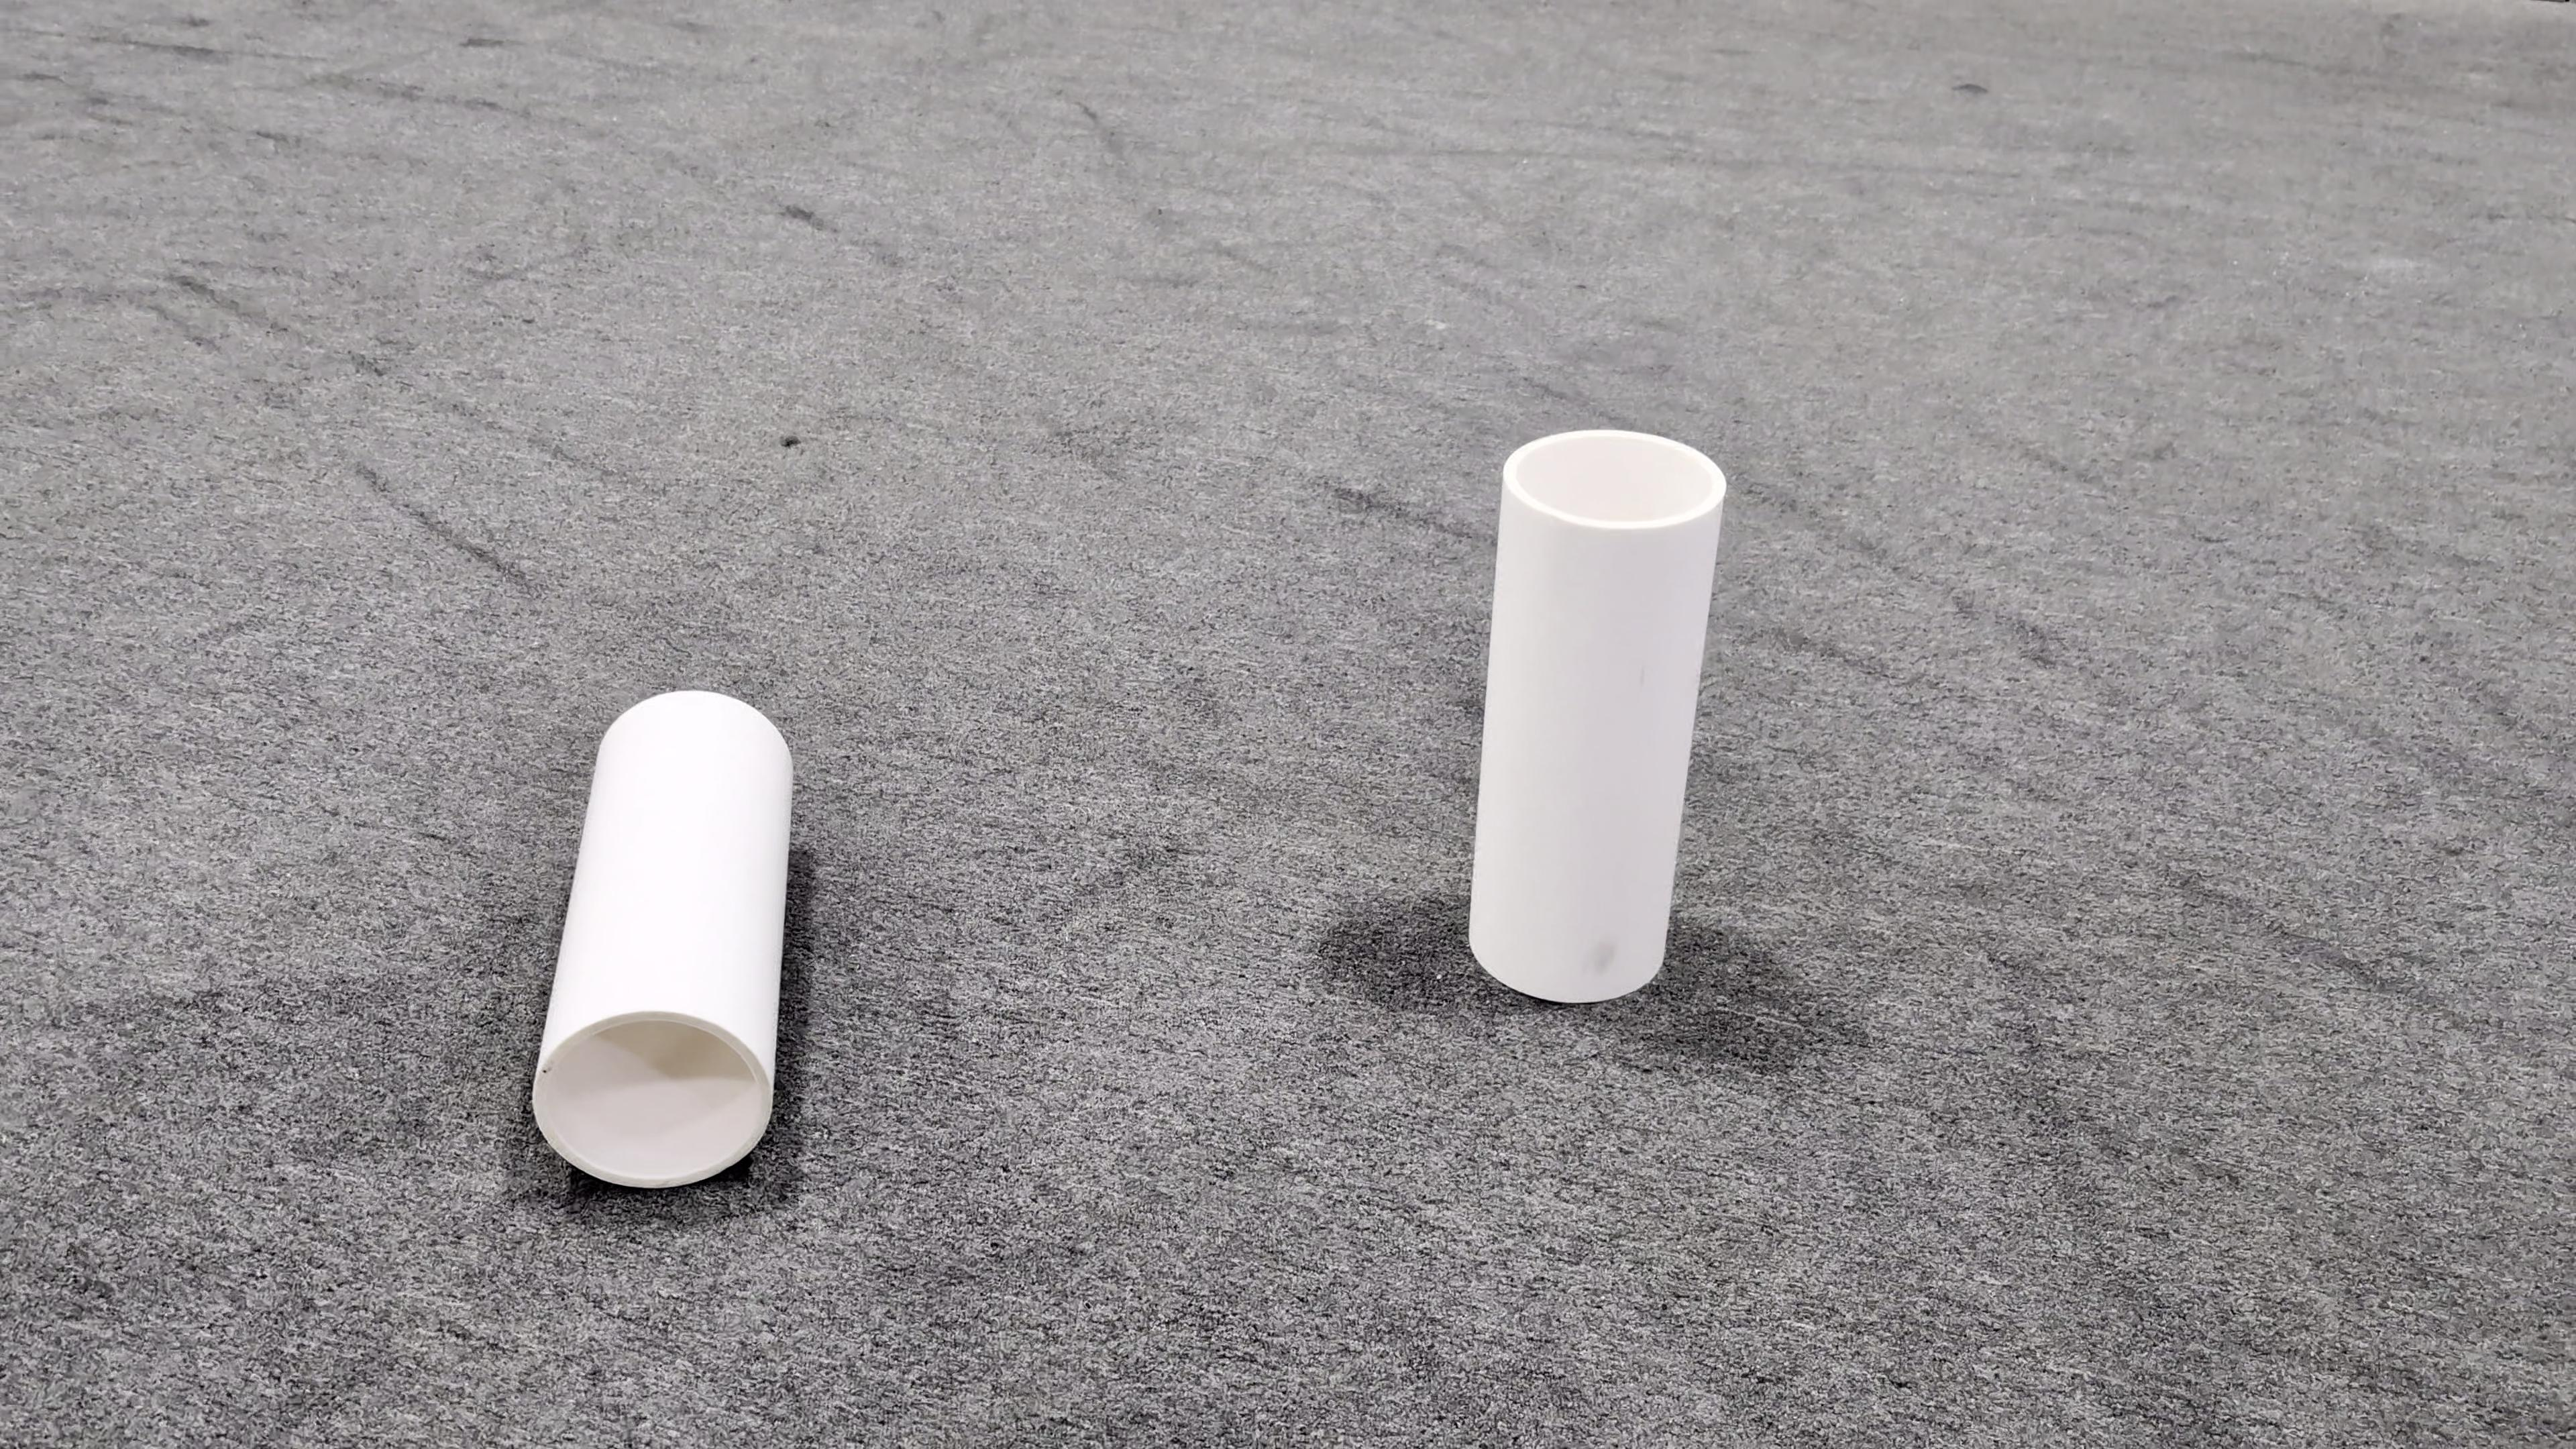coral: (1461, 425, 1730, 1005), (529, 688, 798, 1189)
